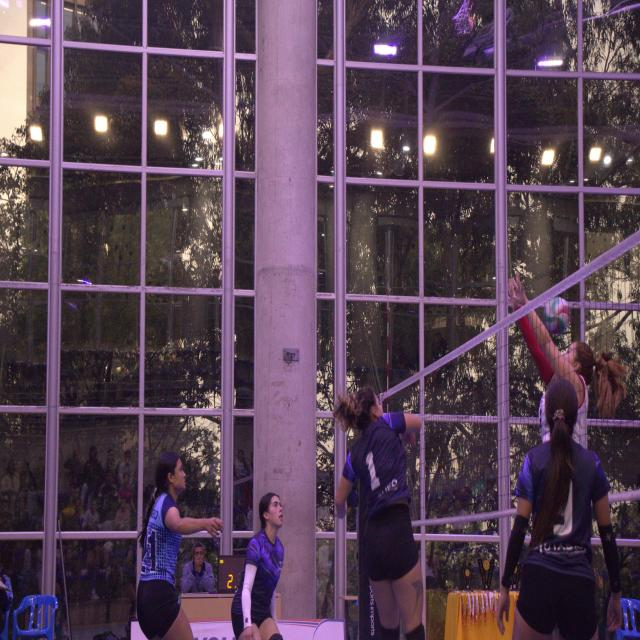volleyball: (545, 298, 570, 334)
